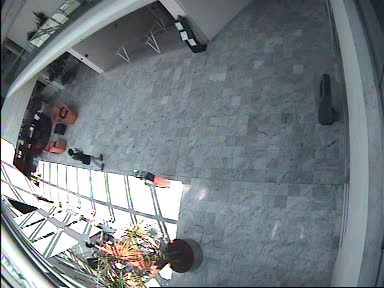person: (66, 149, 104, 173)
